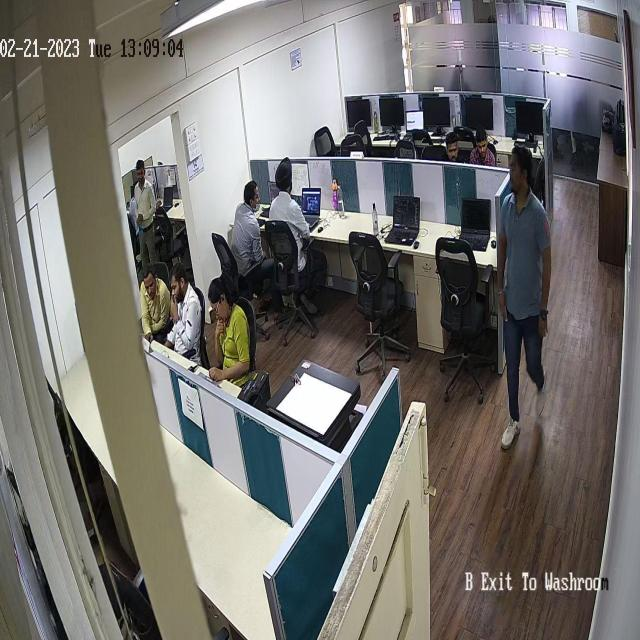chair: (429, 240, 499, 405), (346, 232, 414, 379), (259, 220, 321, 342), (170, 270, 214, 372), (217, 218, 256, 298), (150, 197, 188, 255), (314, 124, 337, 158)
keyboard: (367, 130, 400, 144), (513, 136, 538, 150), (423, 132, 446, 145)
laptop: (386, 191, 420, 250), (457, 194, 490, 250), (301, 187, 321, 226), (262, 176, 278, 218), (157, 183, 174, 211)
monitor: (419, 94, 452, 129), (516, 100, 544, 138), (465, 98, 493, 130), (344, 96, 370, 130), (379, 98, 407, 129)
person: (483, 142, 561, 506), (209, 270, 254, 385), (117, 258, 165, 342), (168, 261, 204, 363), (236, 165, 270, 246), (258, 169, 296, 237), (464, 124, 489, 172), (436, 121, 455, 159)
